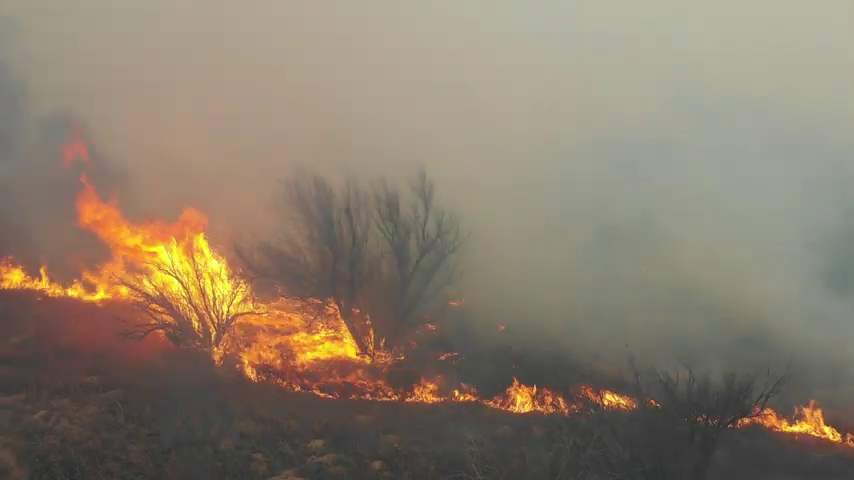forest_fire: (0, 174, 636, 414), (737, 401, 853, 446), (62, 135, 90, 164), (445, 353, 451, 354)
